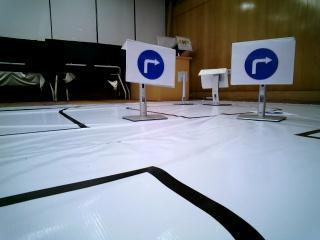right: (228, 38, 298, 86), (125, 40, 179, 88)
